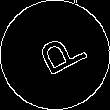P_SW: (24, 27, 86, 83)
